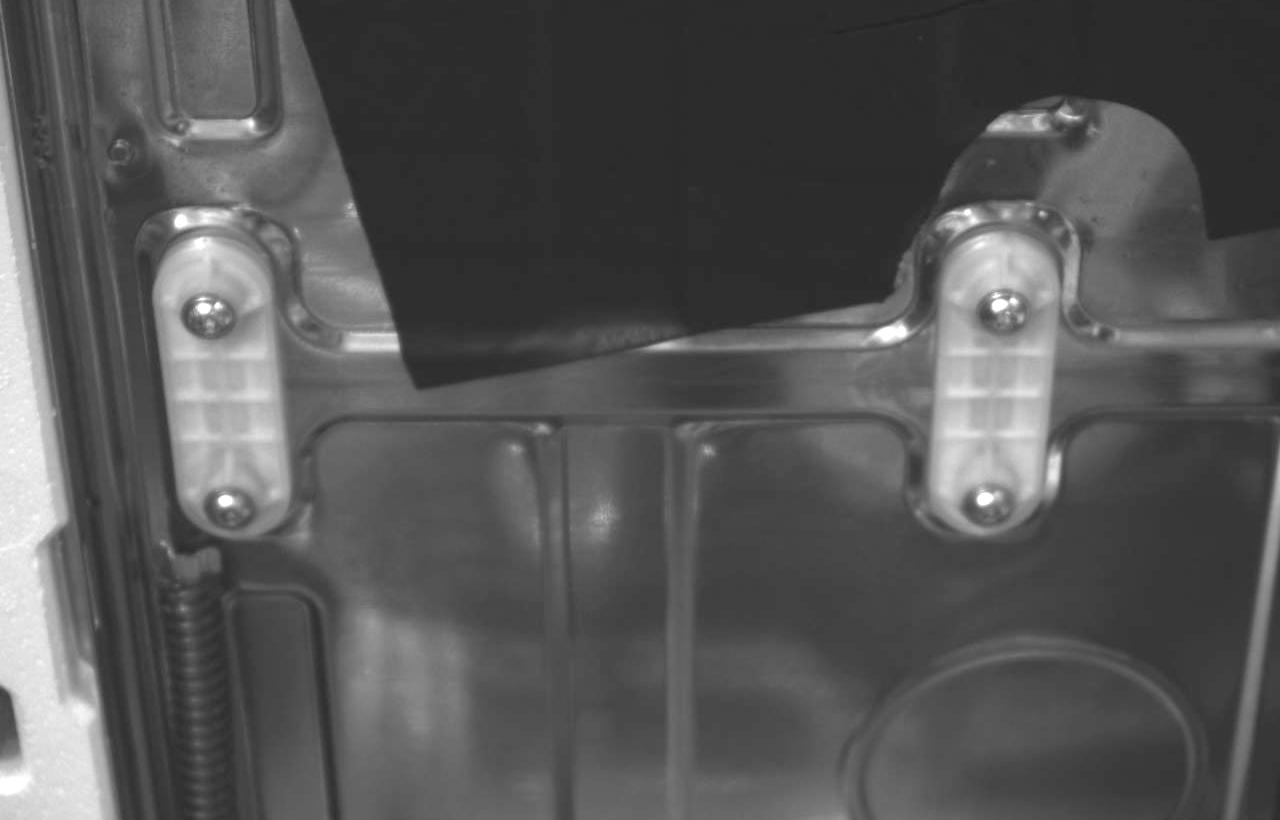vida-ok: (172, 286, 259, 363), (961, 262, 1049, 335), (185, 484, 266, 548), (948, 476, 1024, 535)
